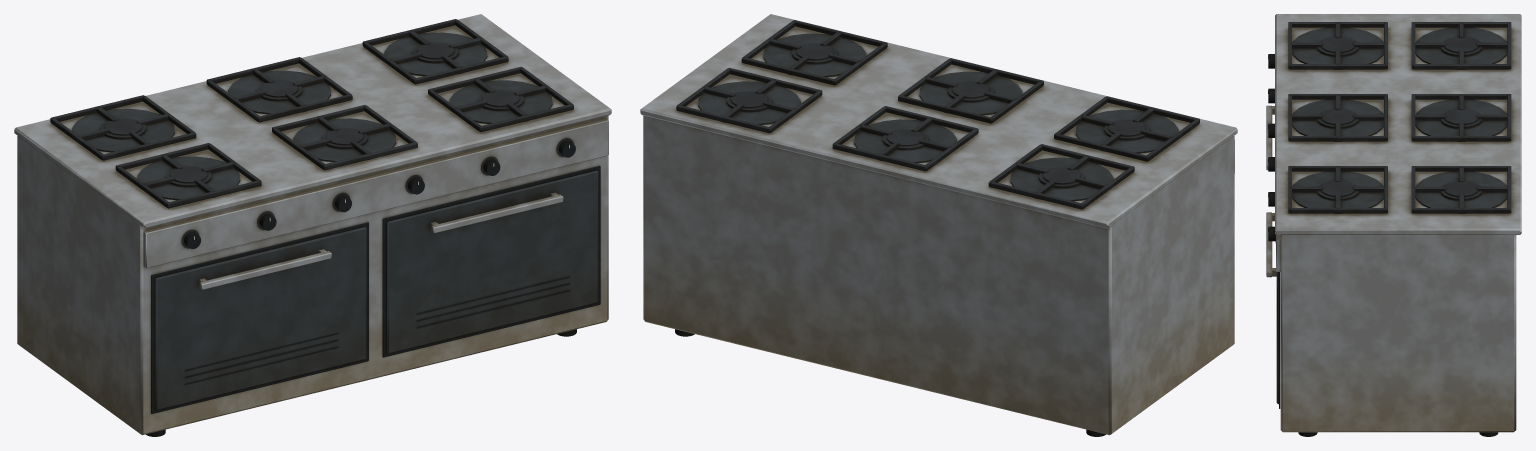
The model's file is fogao_sujo_realista.glb.
3 renders of one model, left to right at view 1: azimuth 30°, elevation 25°; view 2: azimuth 150°, elevation 25°; view 3: azimuth 270°, elevation 25°, orthographic. The views are drawn at different scales.
Visible parts, largest first — view 1: Cozinha_Fogao_PBR; view 2: Cozinha_Fogao_PBR; view 3: Cozinha_Fogao_PBR.
Part boxes in pixels (<box>): Cozinha_Fogao_PBR: <box>14,14,611,436</box>; Cozinha_Fogao_PBR: <box>640,14,1237,436</box>; Cozinha_Fogao_PBR: <box>1266,14,1521,436</box>.
Bounding box in the file's own units: 1.8 × 0.865 × 0.9.
Materials: 1 (1 with a texture image).
